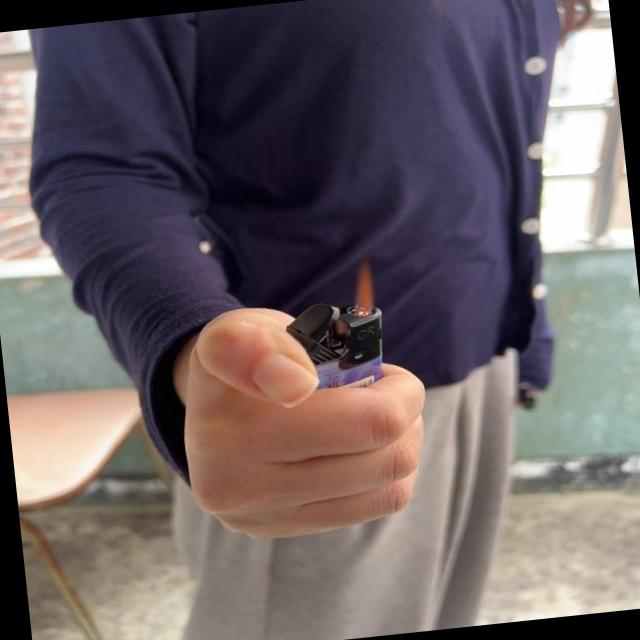Fire: (345, 258, 379, 316)
